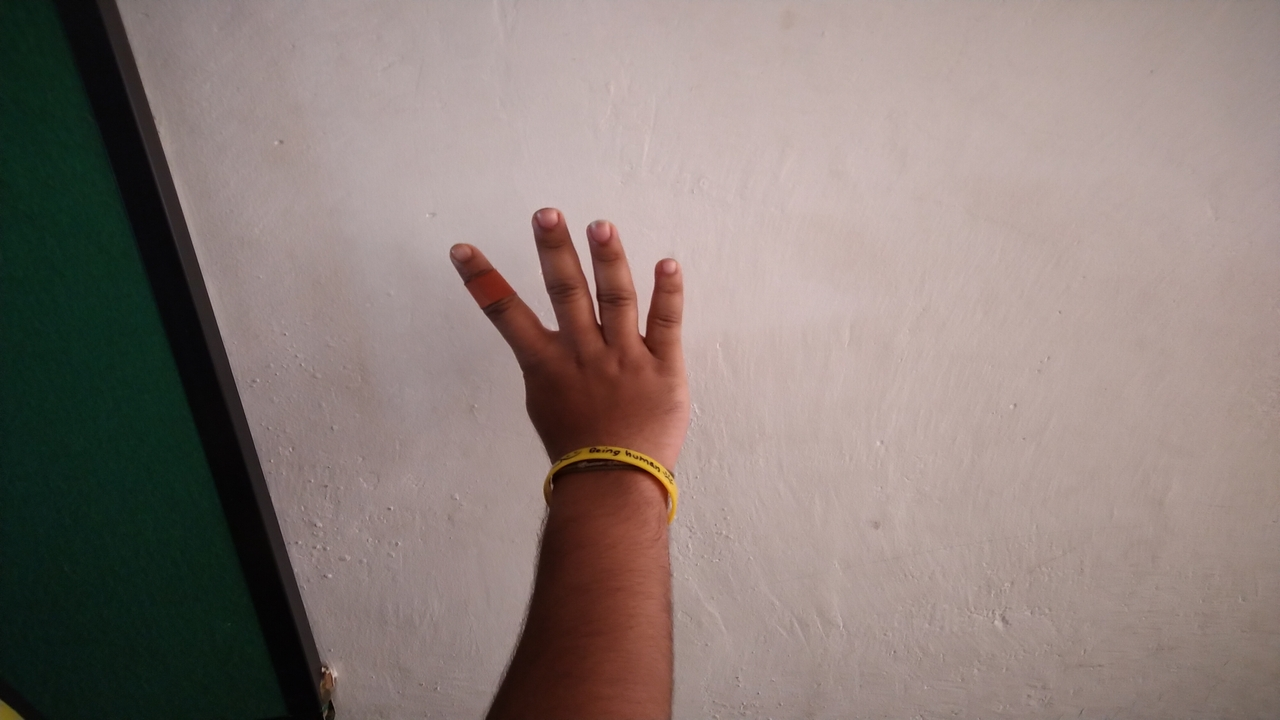fingertip: (438, 232, 492, 282), (524, 194, 574, 242), (646, 244, 692, 288), (584, 210, 628, 254)
